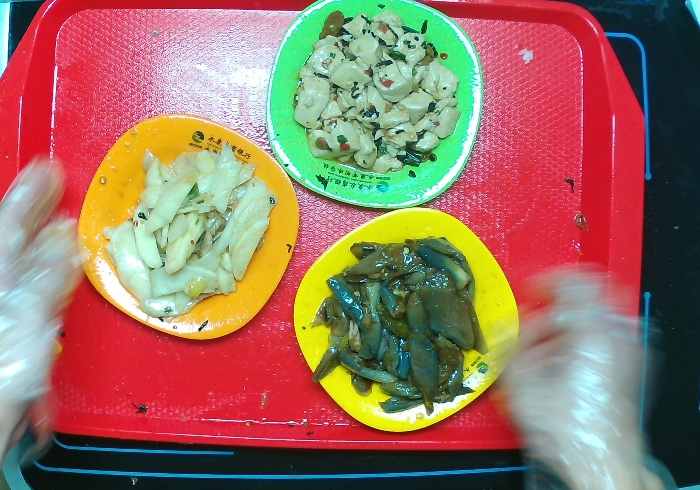YKMZ-Huang_Se_Fang_Die: (288, 207, 525, 434)
YKMZ-Ju_Se_Fang_Die: (77, 112, 308, 343)
YKMZ-Lv_Se_Fang_Die: (266, 1, 487, 211)
